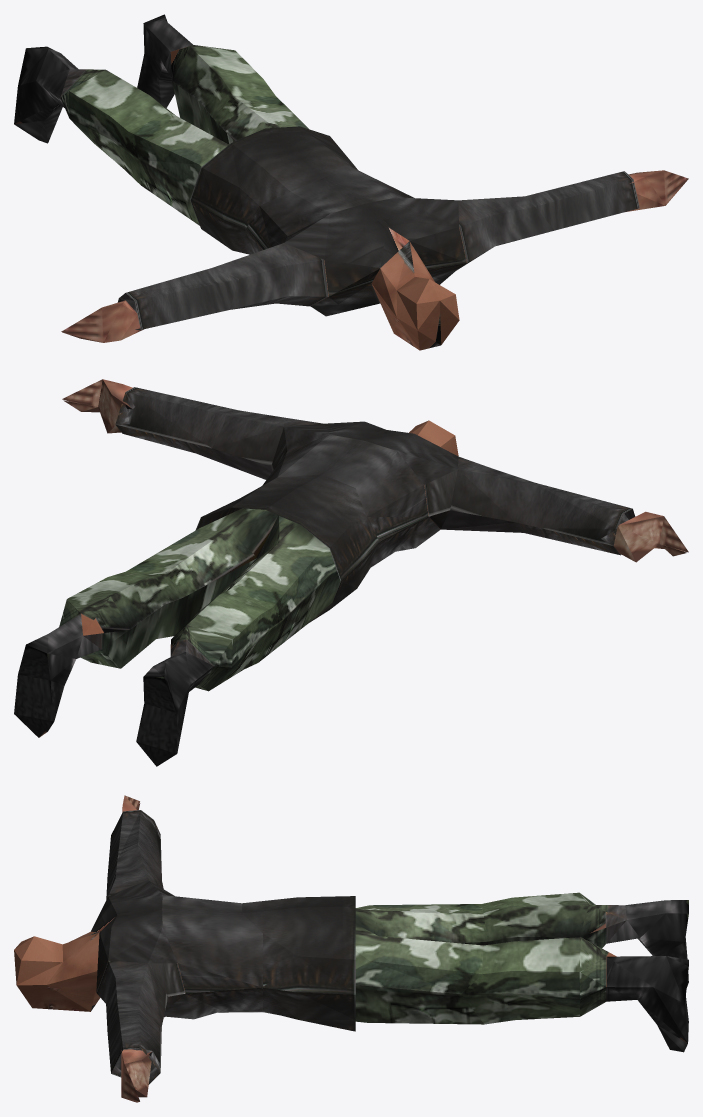
The model's file is thug_jacksonlow_wtf.obj.
The picture shows the model from 3 angles, top to bottom: view 1: azimuth 30°, elevation 25°; view 2: azimuth 150°, elevation 25°; view 3: azimuth 270°, elevation 25°; orthographic projection. The views are drawn at different scales.
Parts seen in each view (by area): view 1: group1; view 2: group1; view 3: group1.
Boxes of the visible parts, x1=… form: group1: x1=14, y1=14, x2=688, y2=350; group1: x1=14, y1=379, x2=688, y2=766; group1: x1=14, y1=795, x2=688, y2=1102.
Size of the model in its own units: 660 by 121 by 627.
